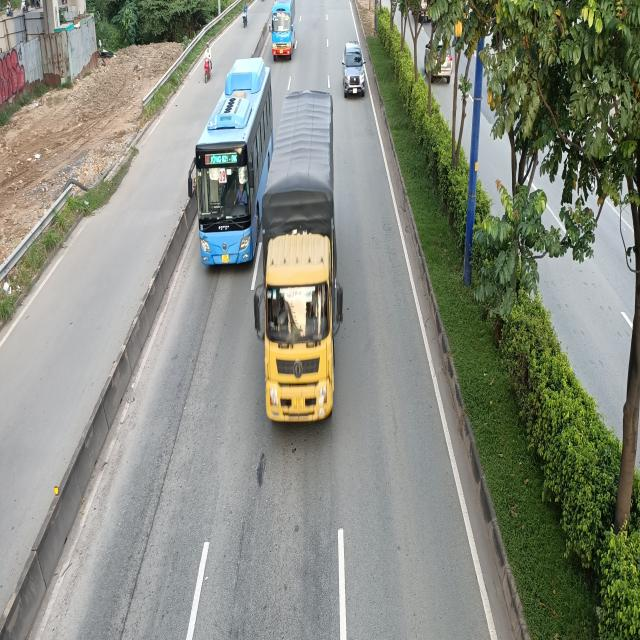car: (342, 43, 366, 99)
coach: (189, 60, 273, 266), (271, 0, 297, 59)
truck: (255, 86, 345, 424)
